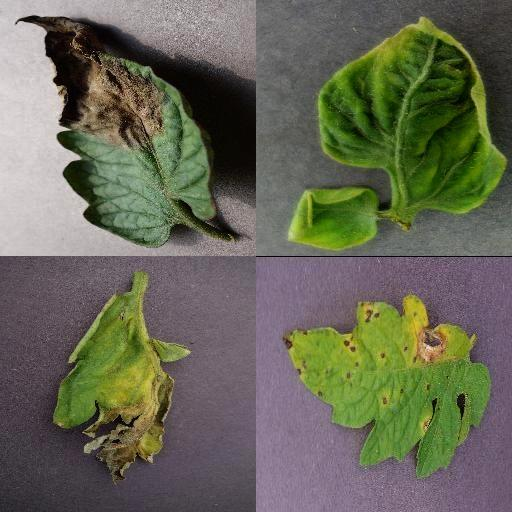Late Blight: (16, 13, 220, 247), (51, 289, 191, 485)
Septoria: (282, 294, 492, 478)
Yellow Leaf Curl Virus: (316, 16, 508, 214), (287, 187, 379, 249)
